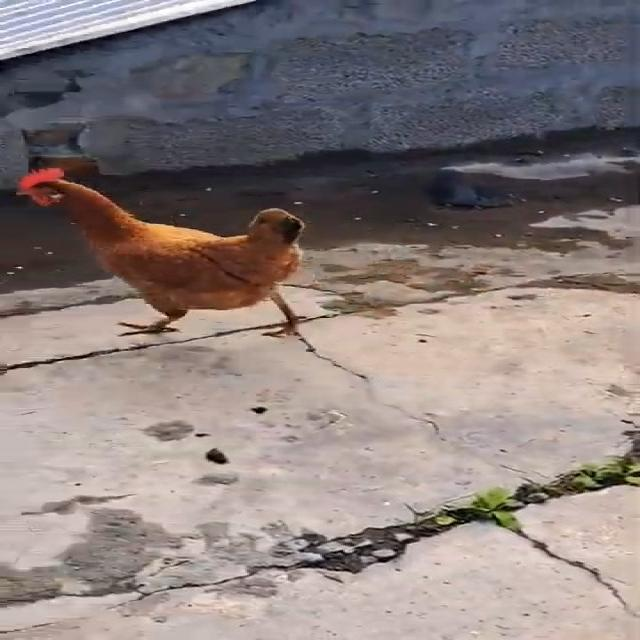walking: (14, 164, 342, 358)
